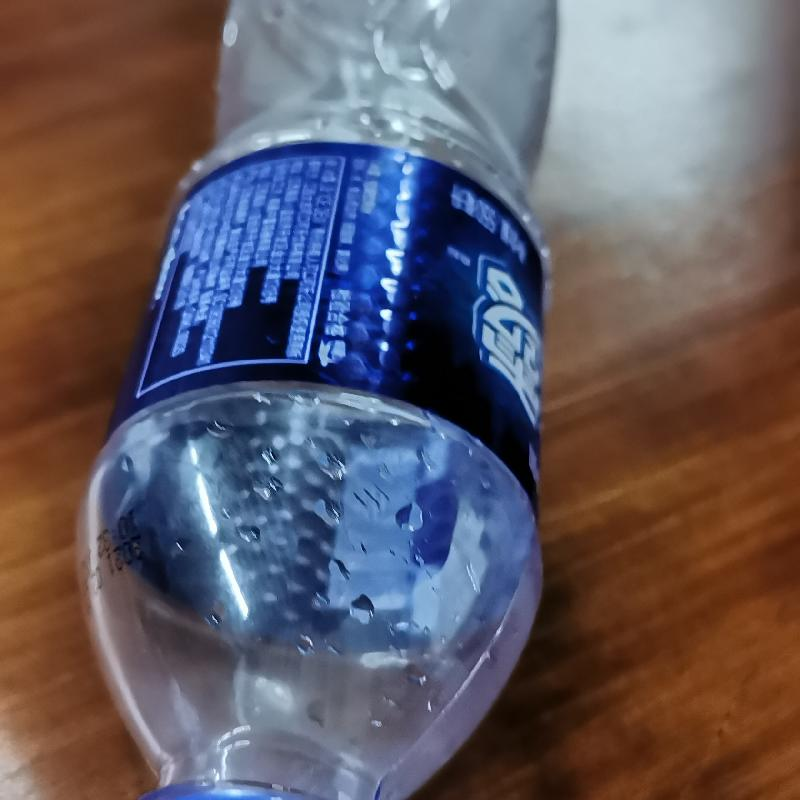bottles: (68, 0, 560, 799)
